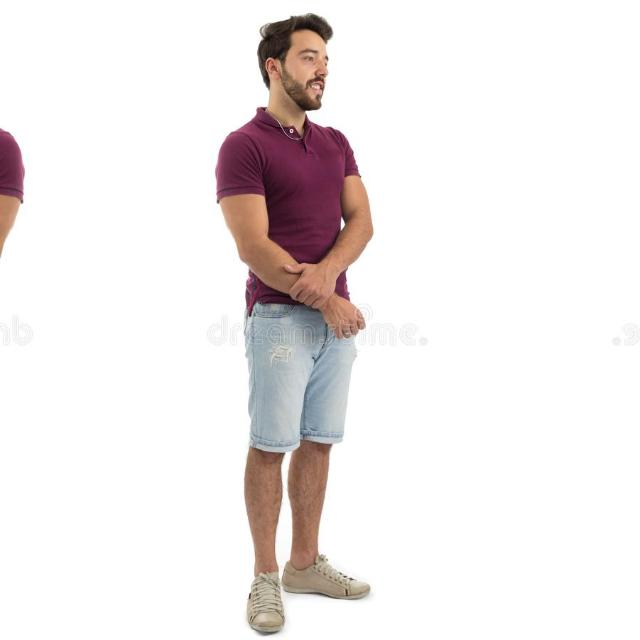person: (178, 6, 432, 626), (0, 5, 60, 626), (605, 5, 640, 626)
